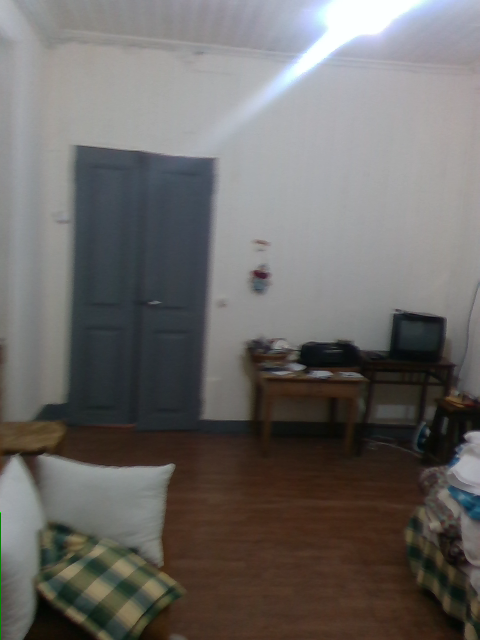closed: (71, 144, 217, 428)
